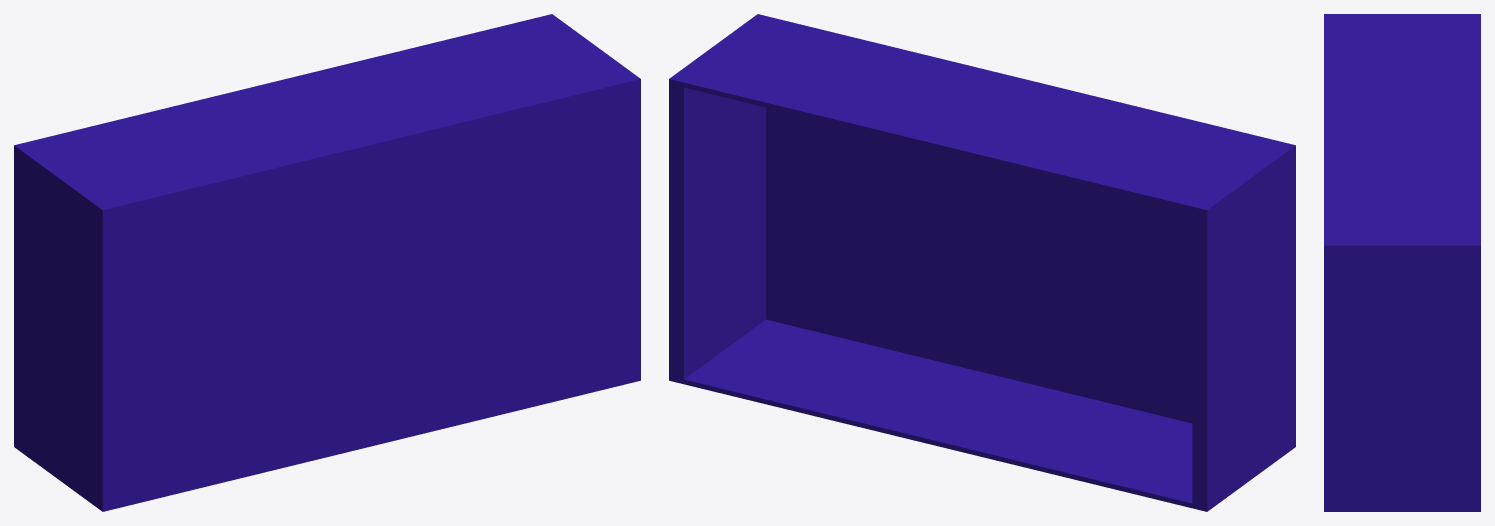
File: ArenaWithWallMat.dae
The picture shows the model from 3 angles, left to right: view 1: azimuth 30°, elevation 25°; view 2: azimuth 150°, elevation 25°; view 3: azimuth 270°, elevation 25°; orthographic projection. The views are drawn at different scales.
Parts seen in each view (by area): view 1: ArenaWallsandFloor_002; view 2: ArenaWallsandFloor_002; view 3: ArenaWallsandFloor_002.
Boxes of the visible parts, x1=… form: ArenaWallsandFloor_002: x1=14, y1=14, x2=640, y2=511; ArenaWallsandFloor_002: x1=669, y1=14, x2=1295, y2=511; ArenaWallsandFloor_002: x1=1324, y1=14, x2=1480, y2=511.
Size of the model in its own units: 28 by 8 by 15.
